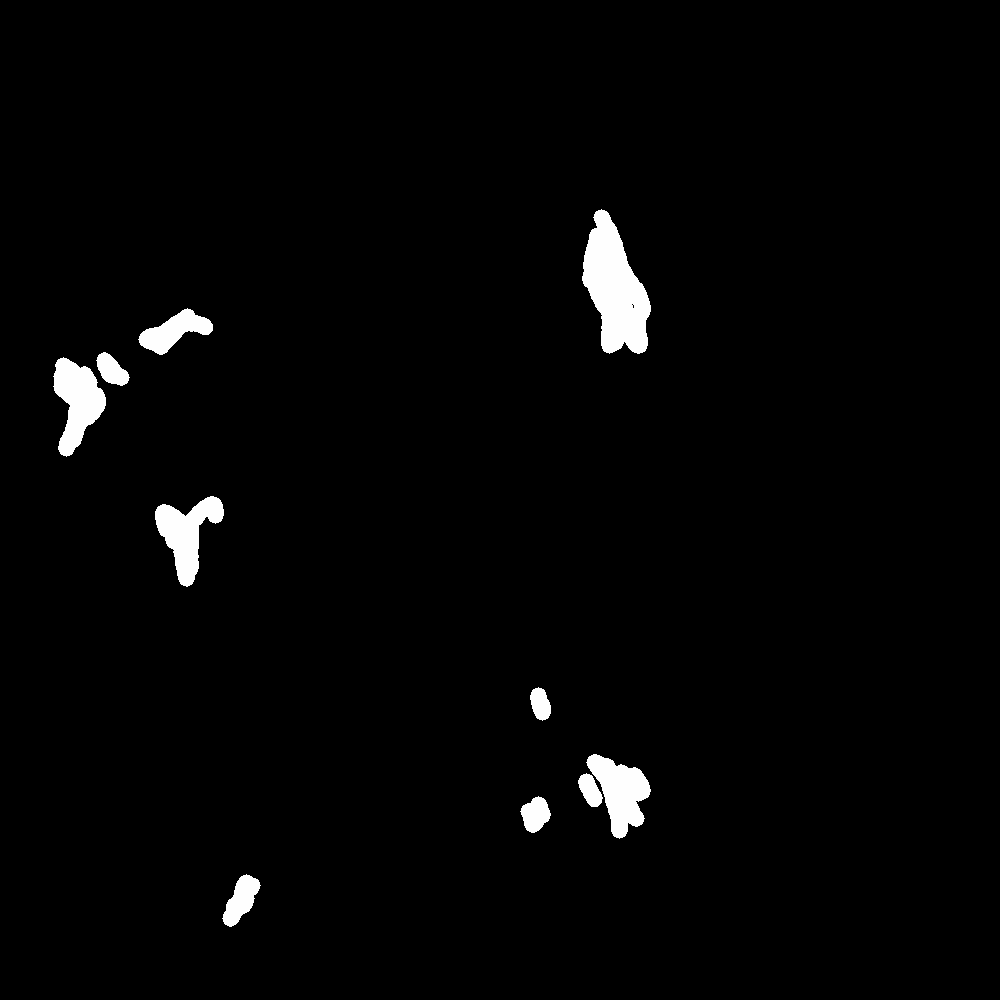illegal: (80, 345, 125, 423), (224, 874, 256, 922), (529, 685, 556, 724), (174, 306, 201, 330), (518, 803, 541, 825), (582, 777, 599, 800)
